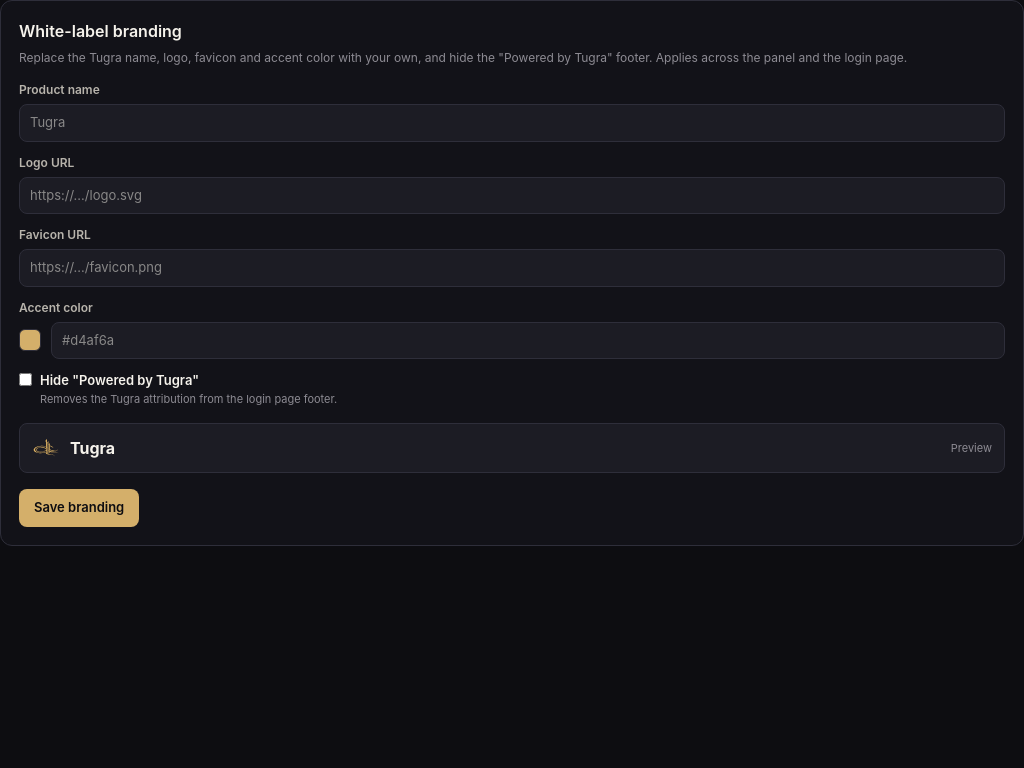
Scenario: BrandingCard › blocks save on an invalid accent hex
Expected: the text "White-label branding" is shown, [19, 19, 182, 43]
Type "red" into the field labelled "Accent color".
click(528, 340); type("red")  # box [51, 322, 1005, 359]
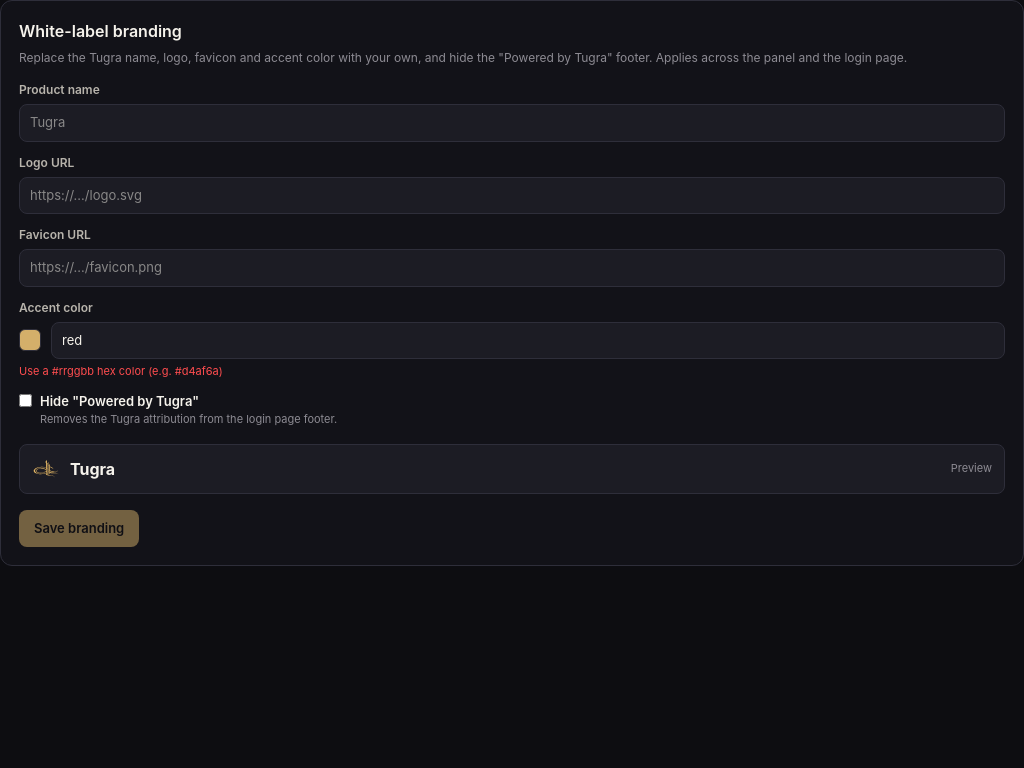
Expected: the button "Save branding" is disabled, [19, 510, 139, 547]
